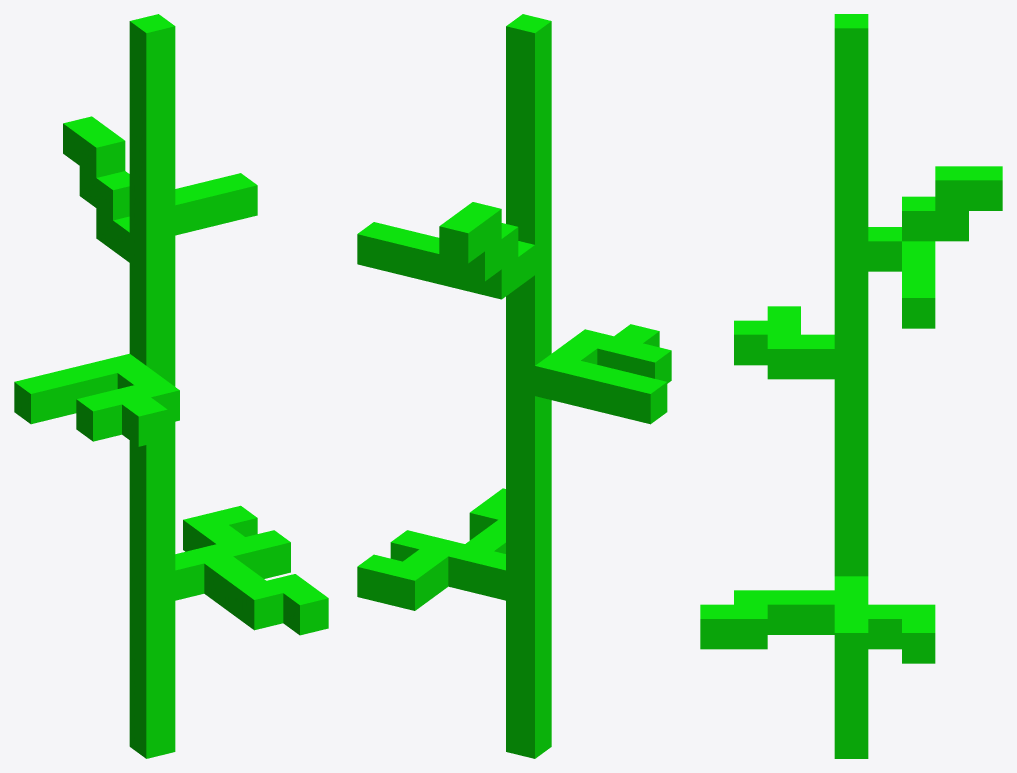
Rendered from Flower.vox.obj.
The picture shows the model from 3 angles, left to right: view 1: azimuth 30°, elevation 25°; view 2: azimuth 150°, elevation 25°; view 3: azimuth 270°, elevation 25°; orthographic projection.
Visible parts, largest first — view 1: Flower; view 2: Flower; view 3: Flower.
Boxes of the visible parts, x1=… form: Flower: x1=14, y1=14, x2=328, y2=758; Flower: x1=357, y1=14, x2=671, y2=758; Flower: x1=700, y1=14, x2=1002, y2=758.
Bounding box in the file's own units: 0.9 × 2.4 × 0.9.
